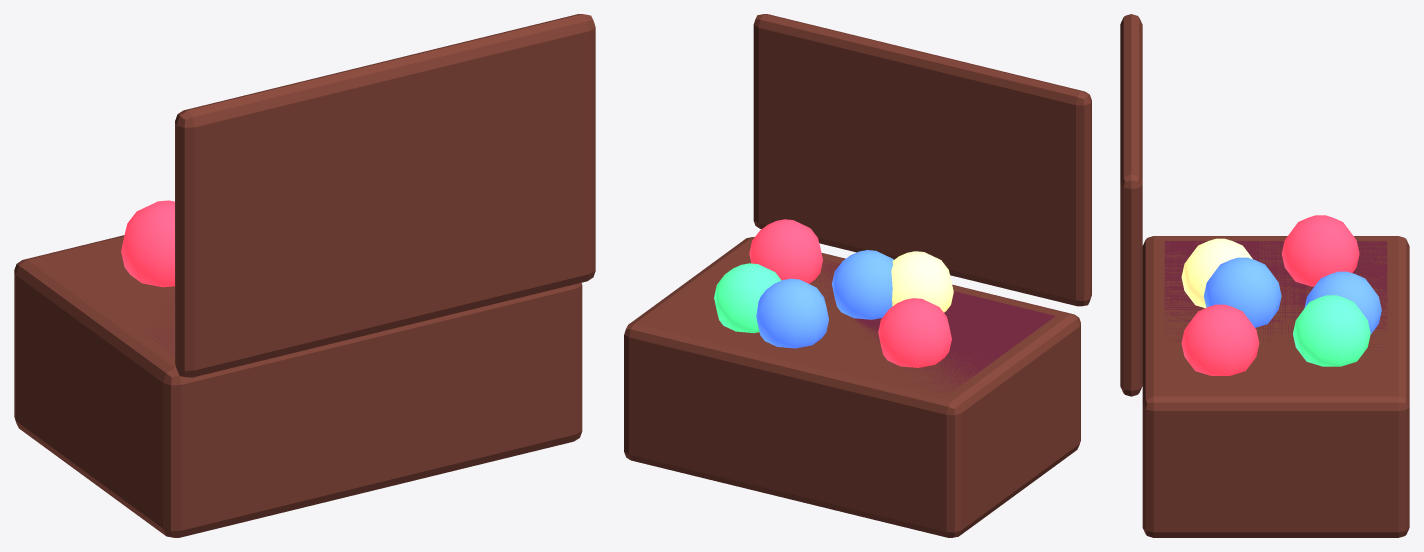
Rendered from Jewels.glb.
The picture shows the model from 3 angles, left to right: view 1: azimuth 30°, elevation 25°; view 2: azimuth 150°, elevation 25°; view 3: azimuth 270°, elevation 25°; orthographic projection. The views are drawn at different scales.
Visible parts, largest first — view 1: Jewels; view 2: Jewels; view 3: Jewels.
Boxes of the visible parts, x1,y1,x2,y2 form: Jewels: (14,14,595,537); Jewels: (624,14,1091,537); Jewels: (1120,14,1409,537).
Size of the model in its own units: 0.36 by 0.36 by 0.26.
